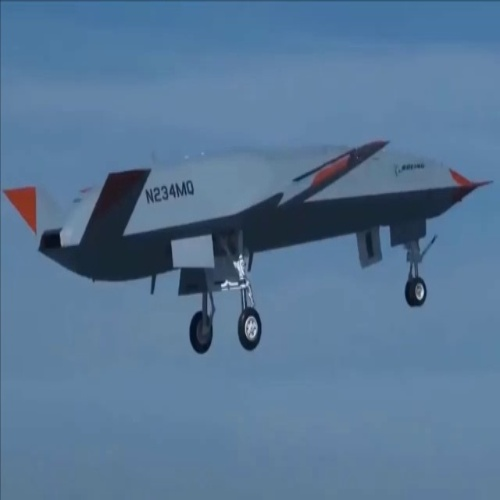uav: (1, 137, 495, 352)
